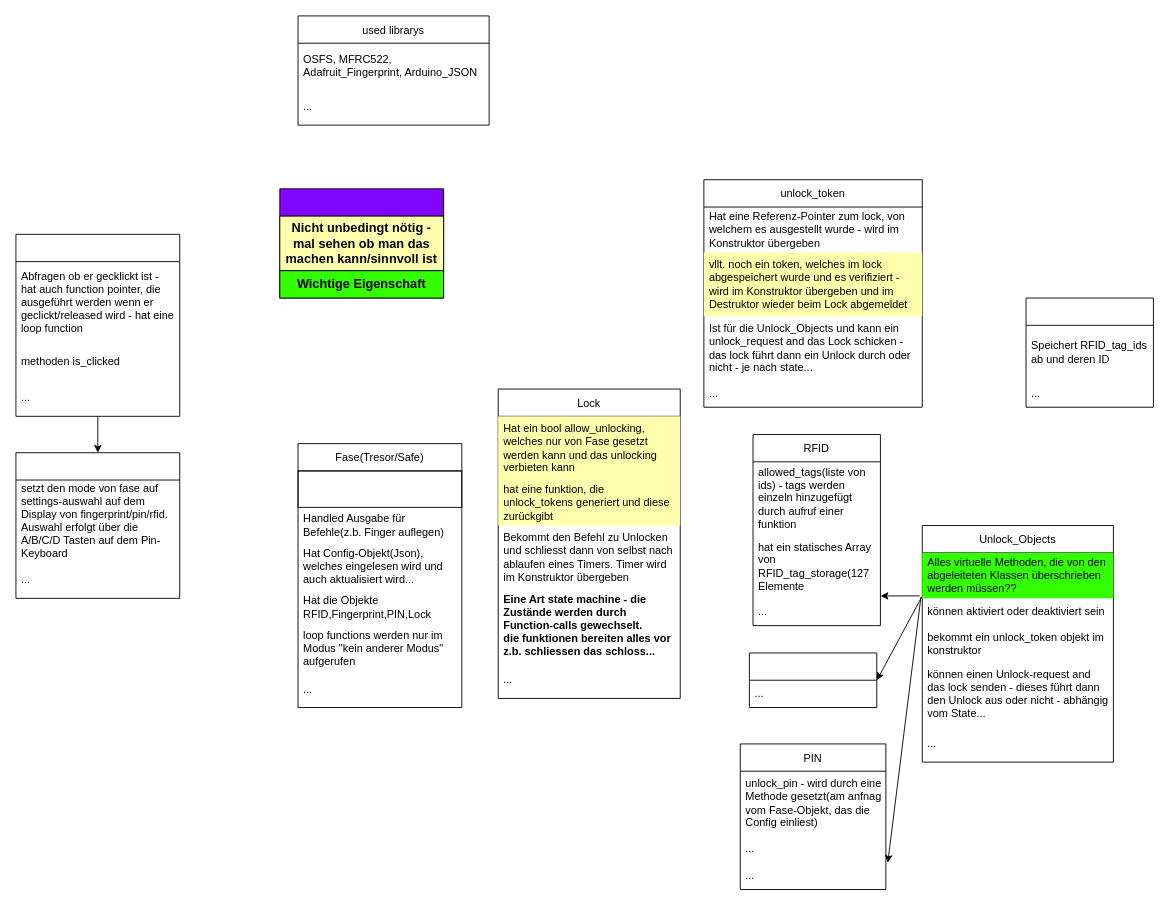
Some shapes in this 1169 by 905 pixel diagram are drawn without their labels. The box of each missing label's shape, as (x1, y1, x2, y2) in pixels:
Button: (15, 233, 180, 416)
Fingerprint: (748, 652, 877, 708)
Handled Verbindung zwischen Locking und Unlock Objects: (297, 470, 462, 507)
Register: (279, 188, 444, 298)
RFID_tag_storage: (1025, 297, 1153, 407)
Settings-button: (15, 452, 180, 598)
